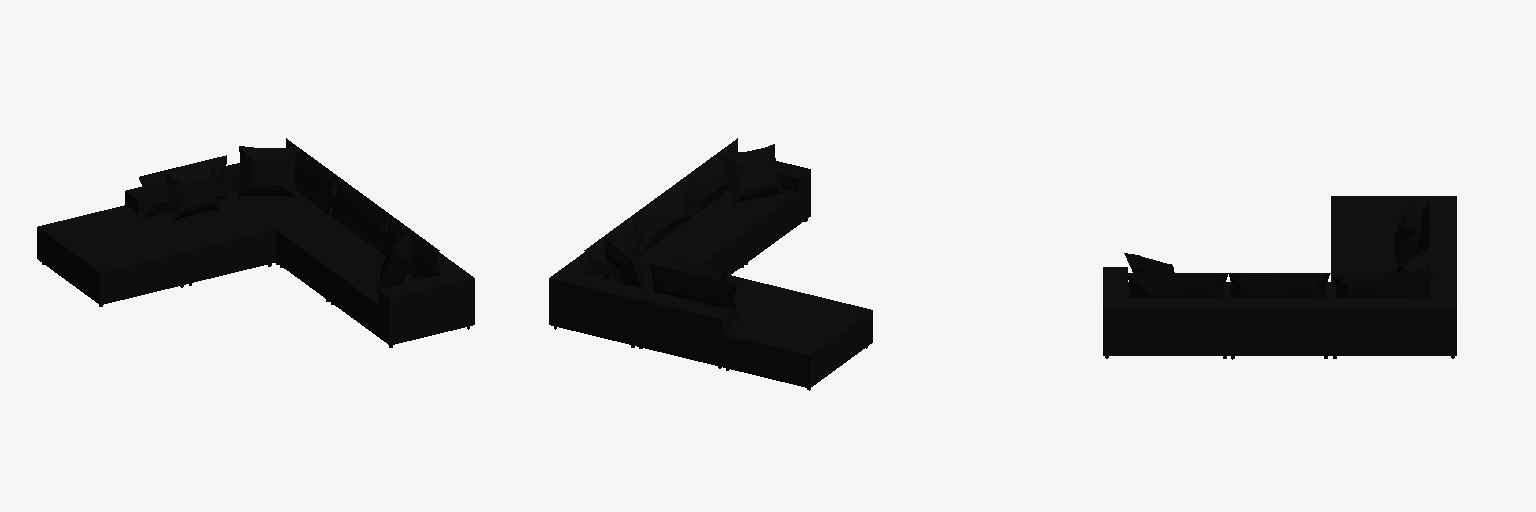
Rendered from Sofa2.obj.
3 views of the same model, side by side, from view 1: azimuth 30°, elevation 25°; view 2: azimuth 150°, elevation 25°; view 3: azimuth 270°, elevation 25° (orthographic).
Parts seen in each view (by area): view 1: Sofa; view 2: Sofa; view 3: Sofa.
Boxes of the visible parts, x1,y1,x2,y2 form: Sofa: [37, 138, 474, 347]; Sofa: [549, 138, 872, 390]; Sofa: [1103, 196, 1456, 359].
Bounding box in the file's own units: 5.52 × 1.63 × 6.49.